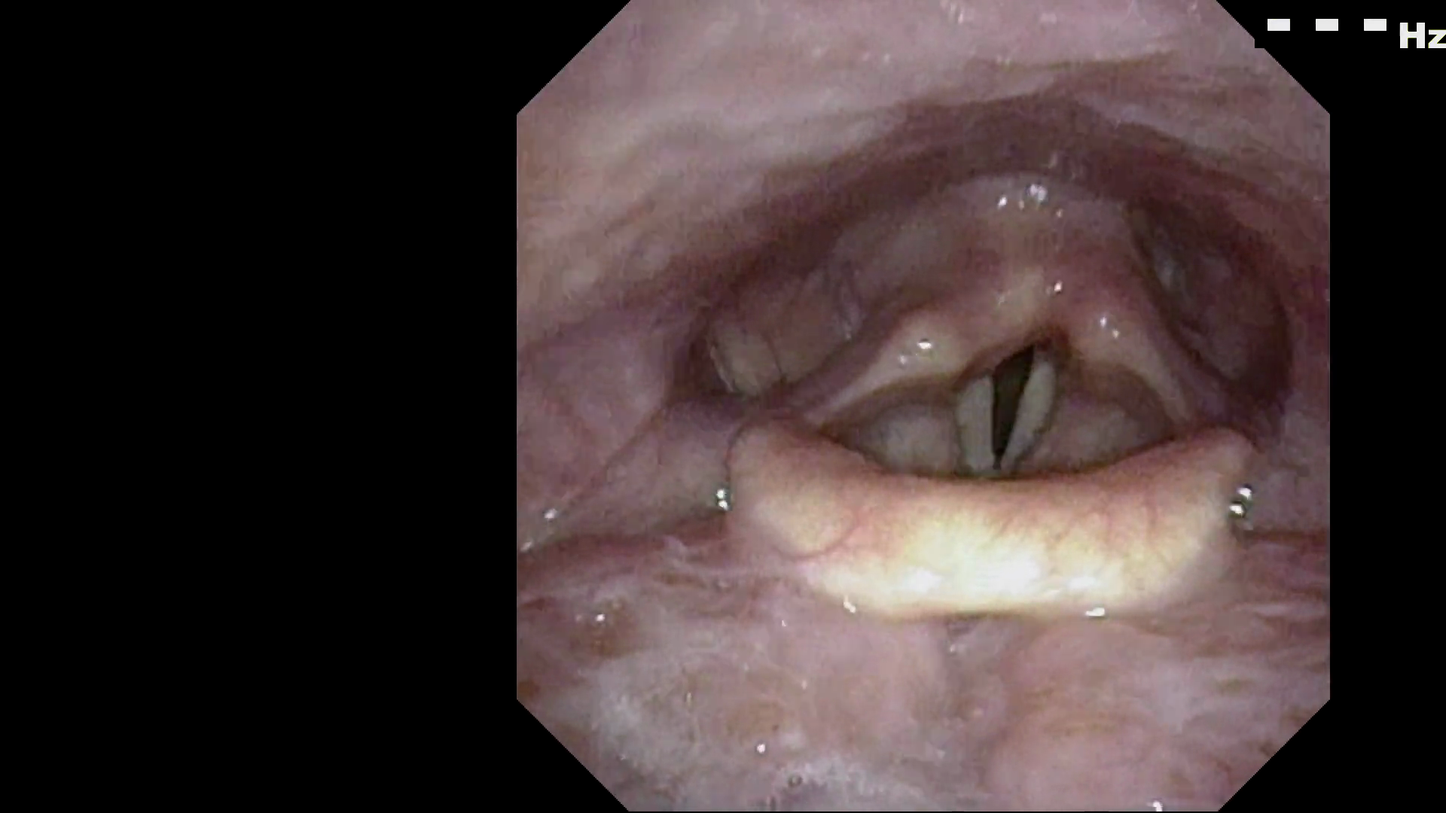epiglottis: (732, 440, 1247, 624)
trachea: (917, 287, 1098, 514)
